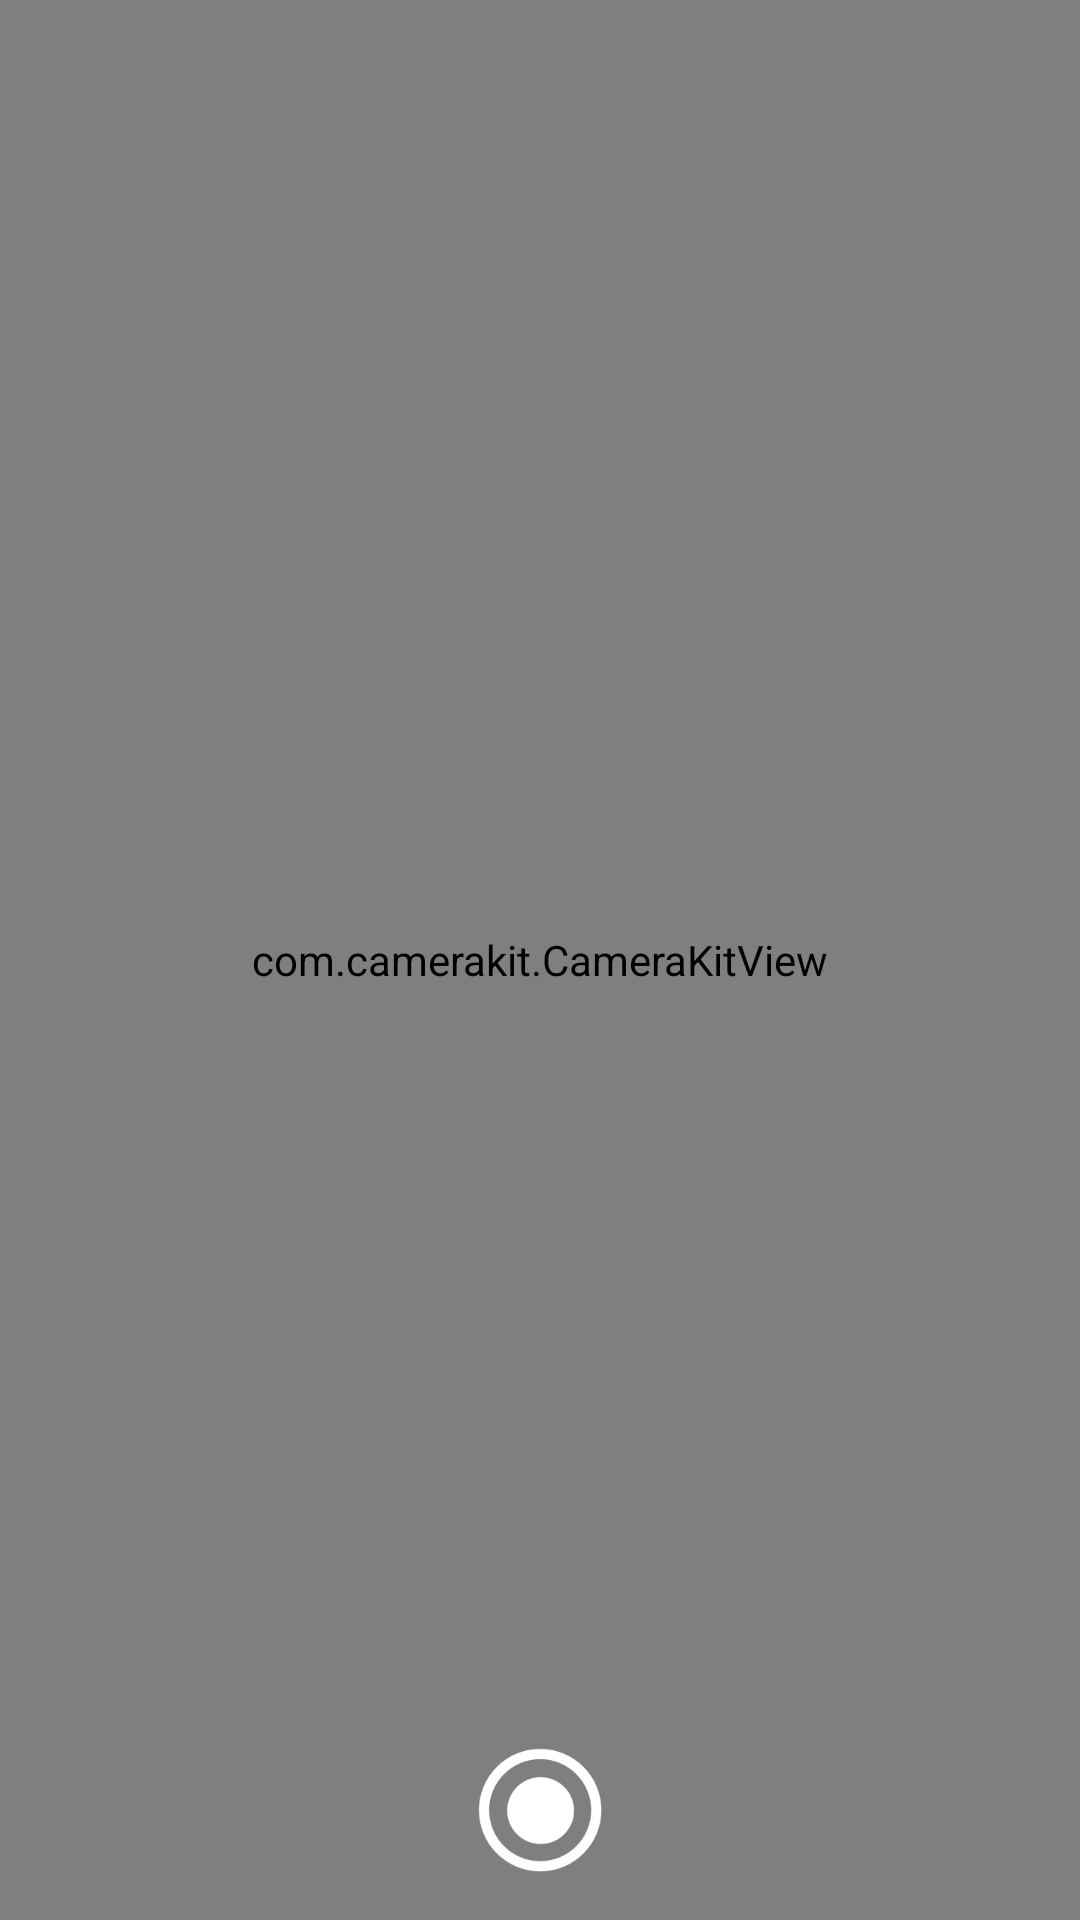

Screen size 1080 × 1920. Icon name, then its box in pixels as (x1, y1, x2, y2):
tirarfoto: (479, 1749, 602, 1872)
